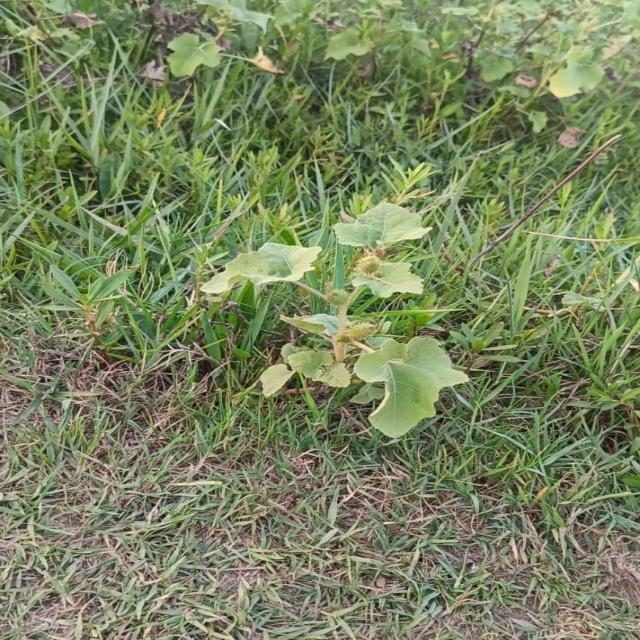weed: (200, 203, 469, 438)
